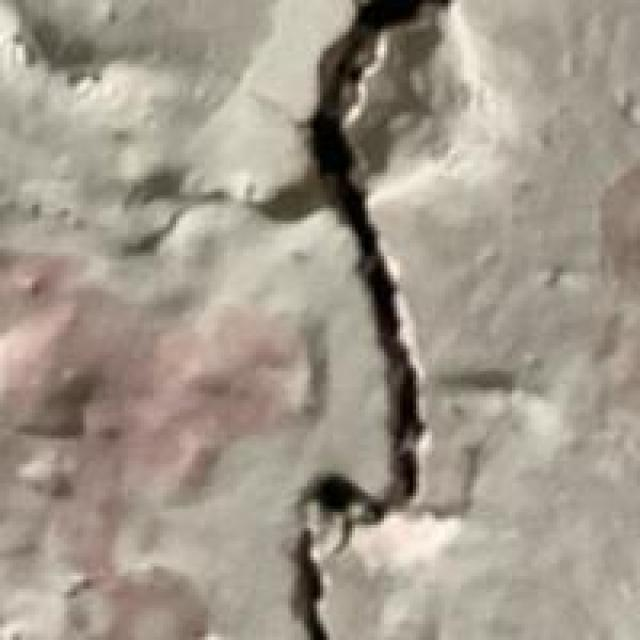crack: (208, 3, 512, 637)
